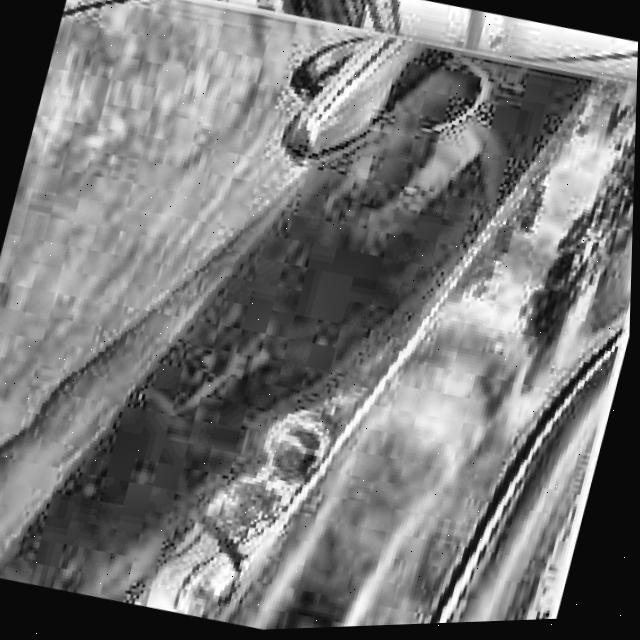door_dent: (328, 299, 501, 531)
